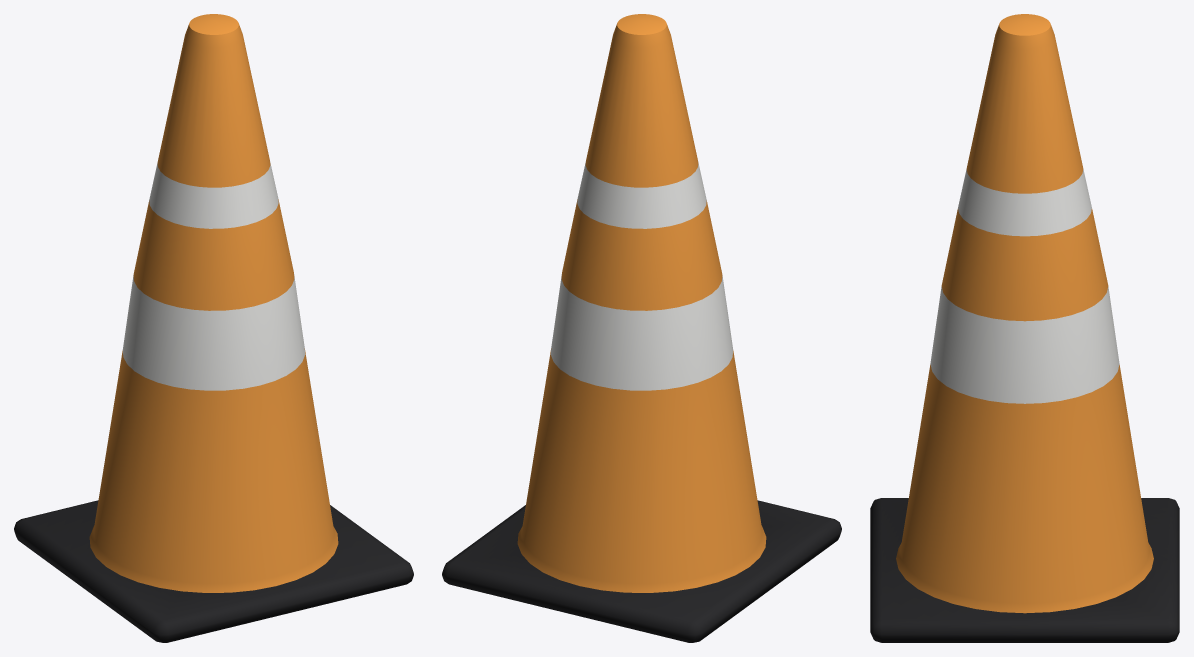
The picture shows the model from 3 angles, left to right: view 1: azimuth 30°, elevation 25°; view 2: azimuth 150°, elevation 25°; view 3: azimuth 270°, elevation 25°; orthographic projection. The views are drawn at different scales.
Parts seen in each view (by area): view 1: p_cone; view 2: p_cone; view 3: p_cone.
Boxes of the visible parts, box(x1,y1,x2,y2) form: p_cone: box(14, 14, 413, 642); p_cone: box(442, 14, 841, 642); p_cone: box(870, 14, 1179, 642).
Size of the model in its own units: 0.36 by 0.72 by 0.36.
